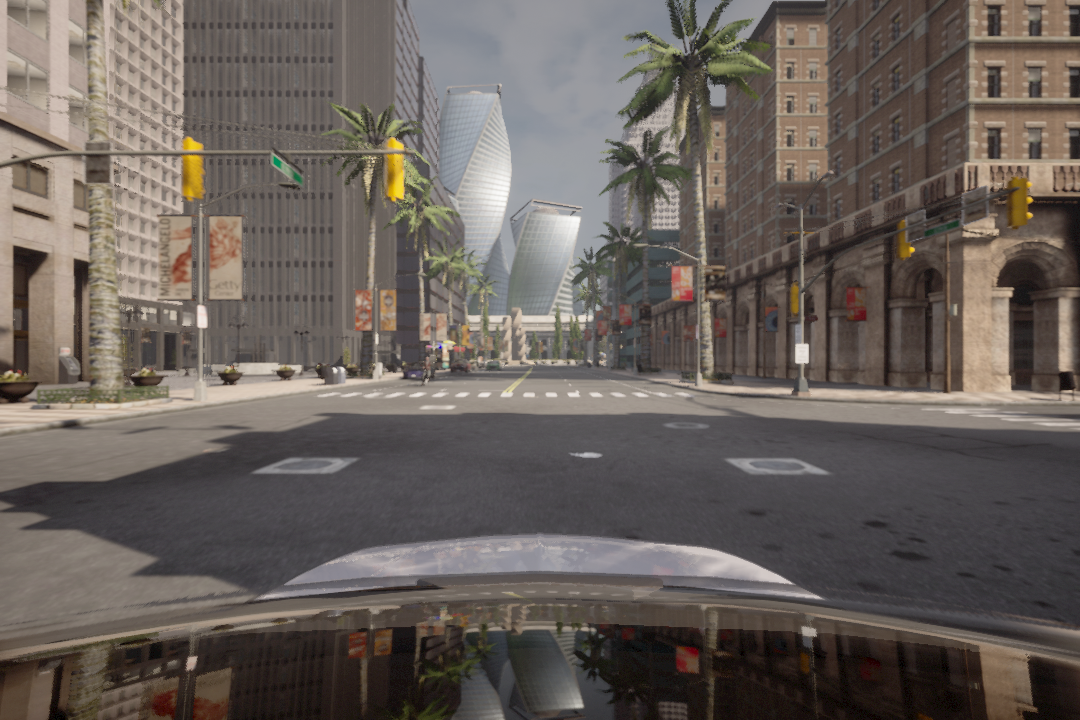walkside: (315, 388, 700, 404)
